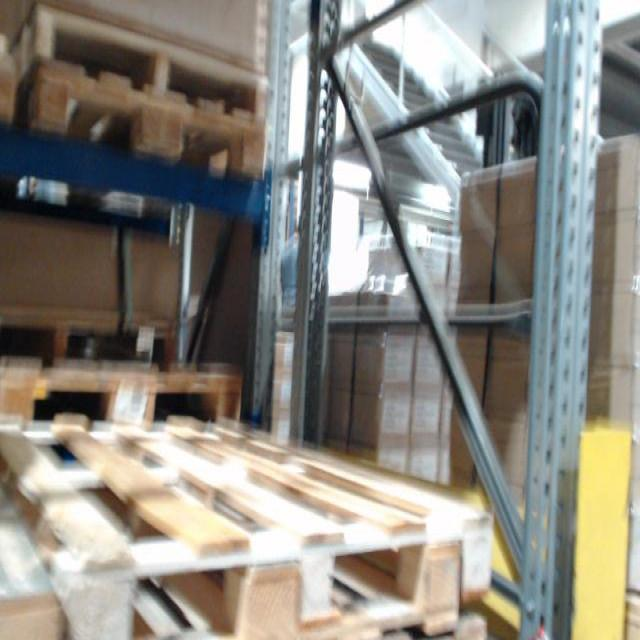pallet: (0, 409, 488, 640), (0, 59, 272, 182), (0, 347, 245, 428)
